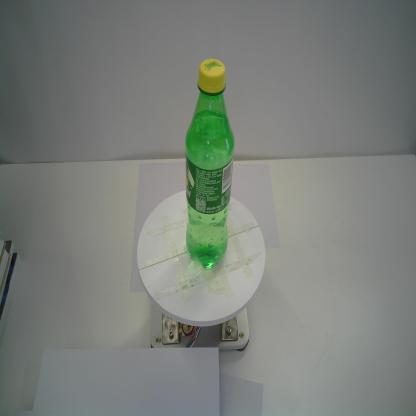Drink: (183, 55, 235, 274)
